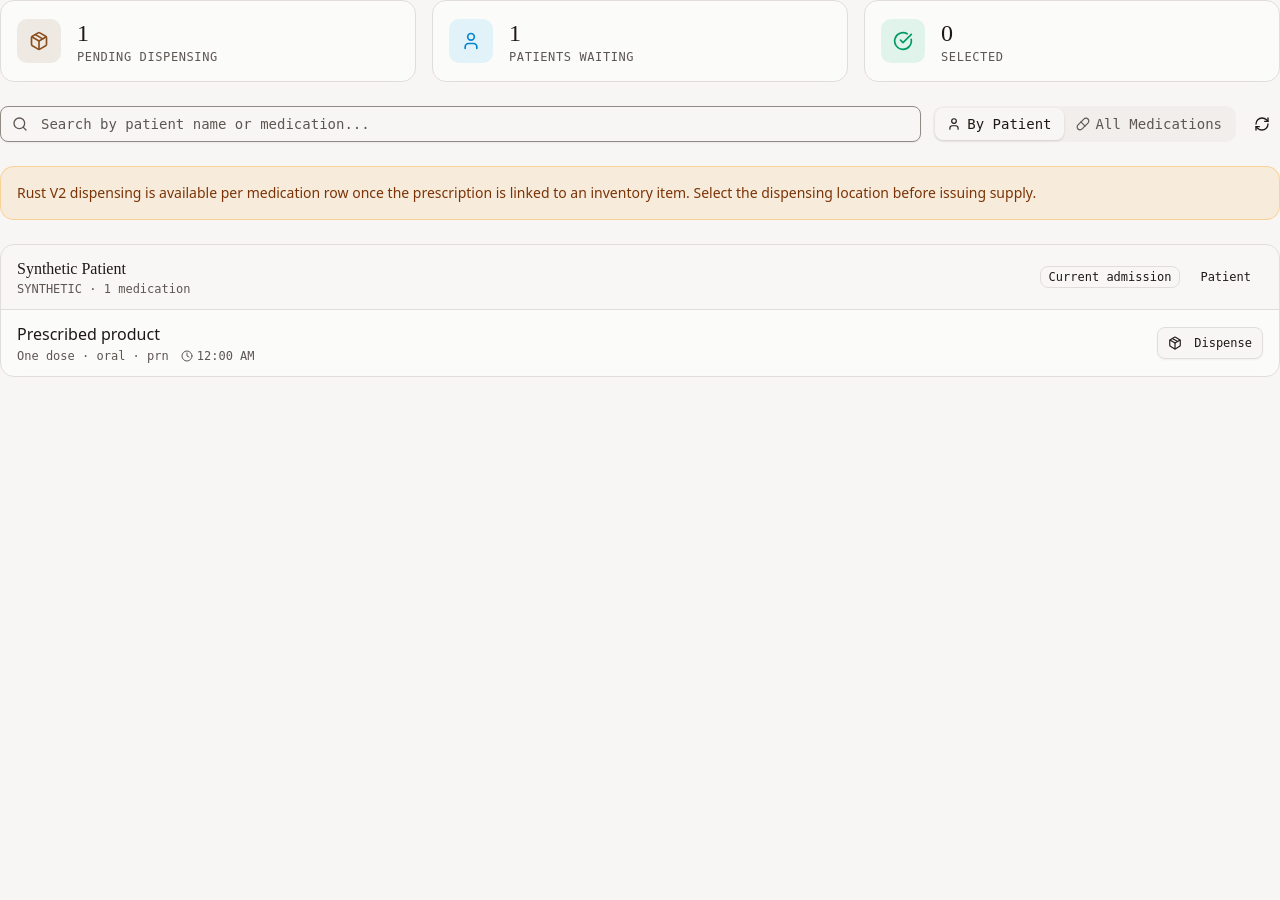
Scenario: real queue dispensing with named locations › fails closed on location load error and recovers through explicit refresh
The width and height of the screenshot is (1280, 900).
Click the button "Dispense" at (1210, 343), box [1157,327,1263,359]
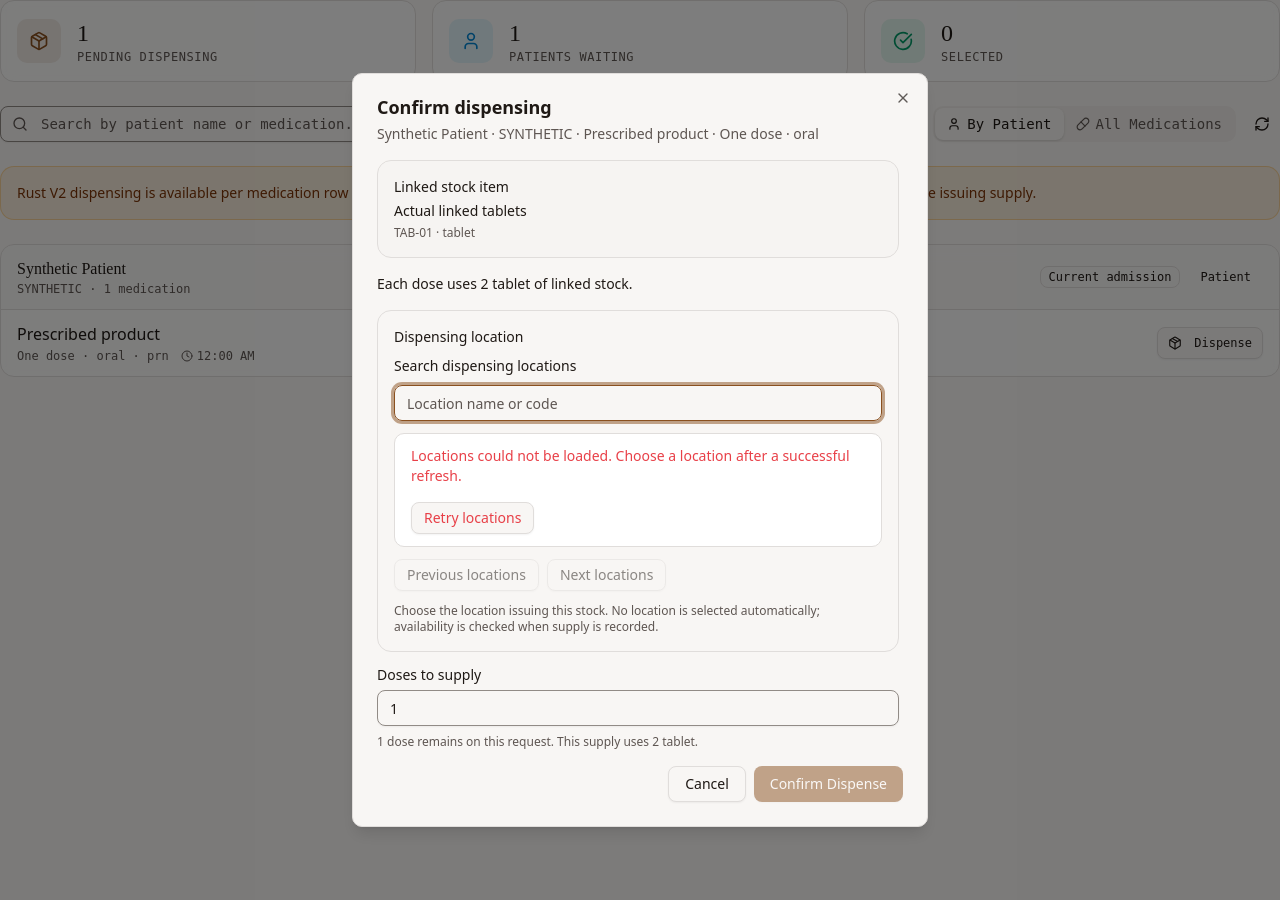
Expected: the text "Locations could not be loaded" is shown, [411,446,850,485]
Expected: the button "Confirm Dispense" is disabled, [754,766,903,802]
Click the button "Retry locations" at (473, 518), box [411,502,534,534]
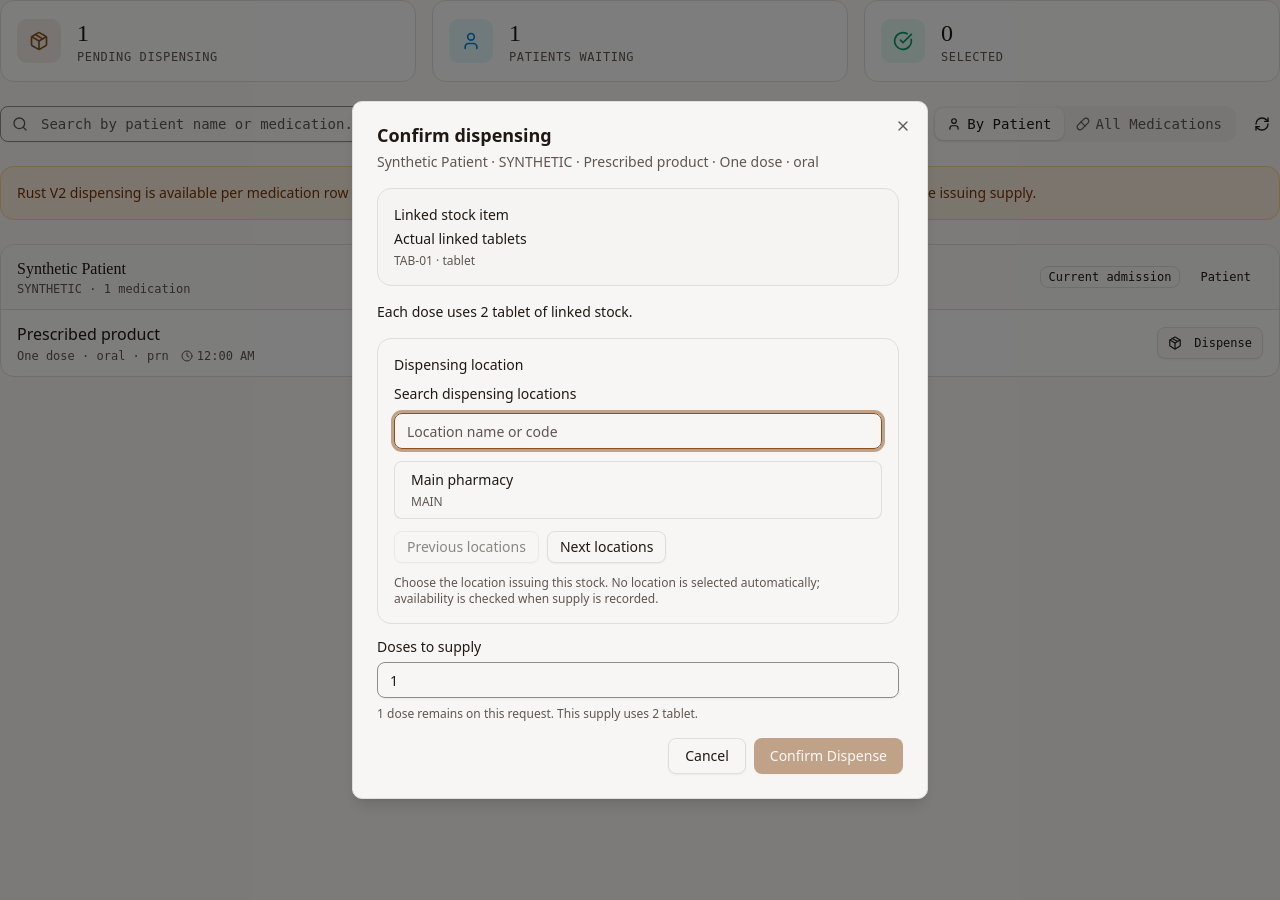
Expected: the button "Main pharmacy MAIN" is shown, [394,461,882,519]
